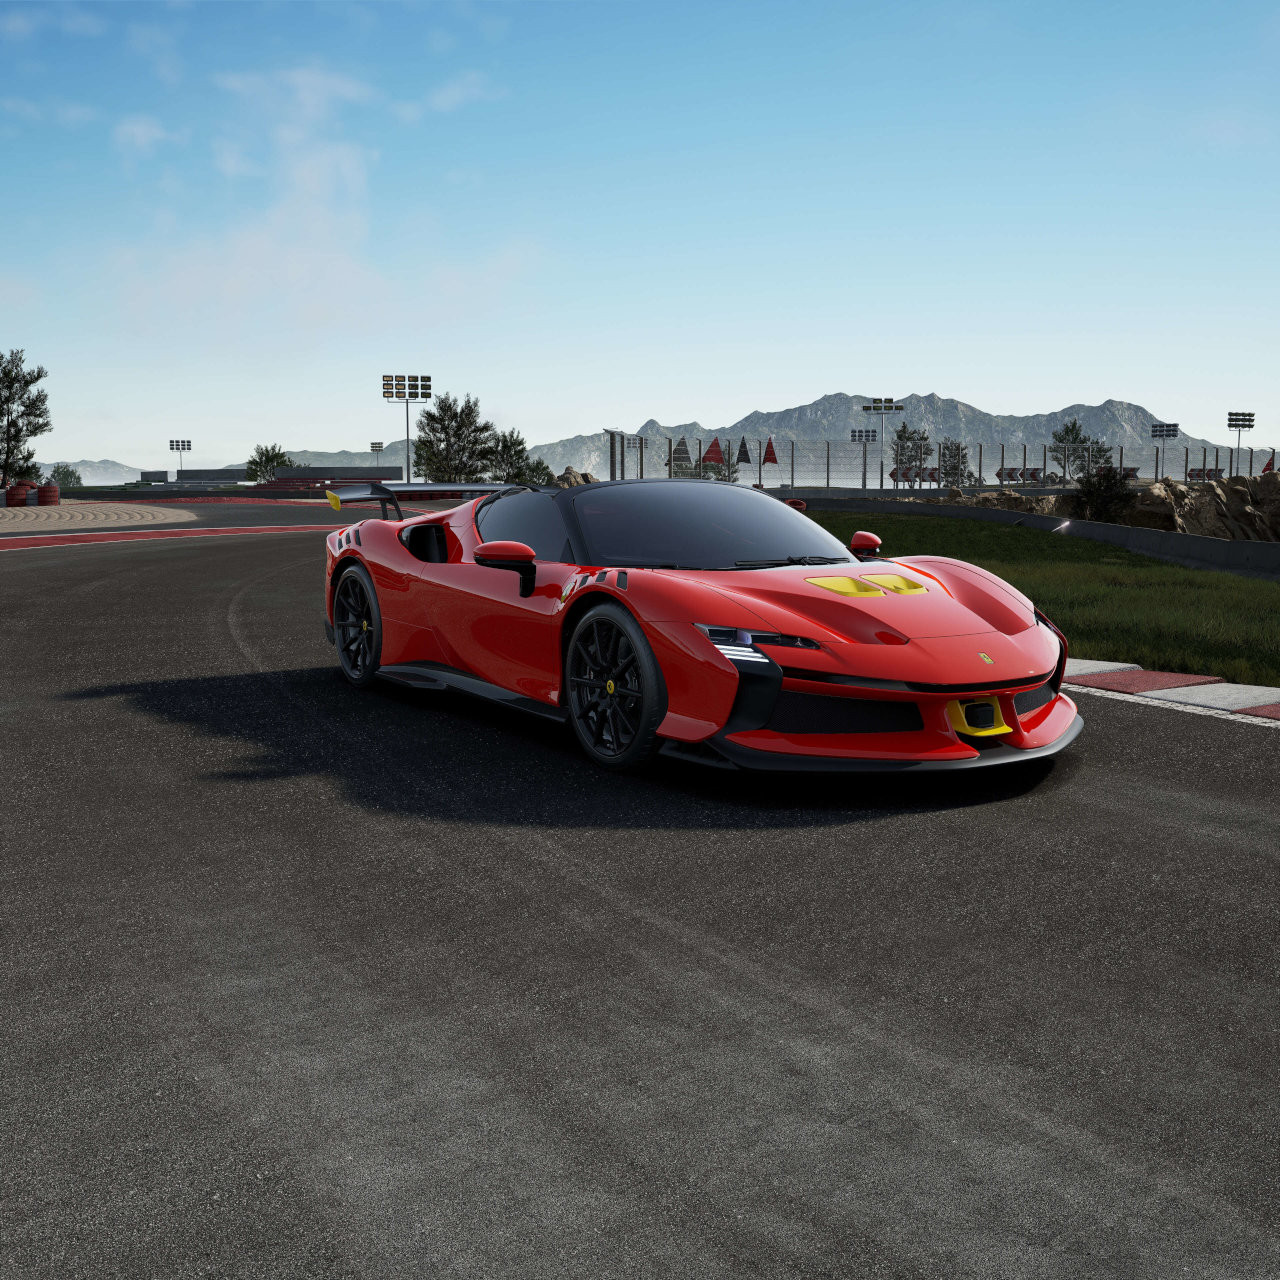car: (319, 475, 1089, 779)
